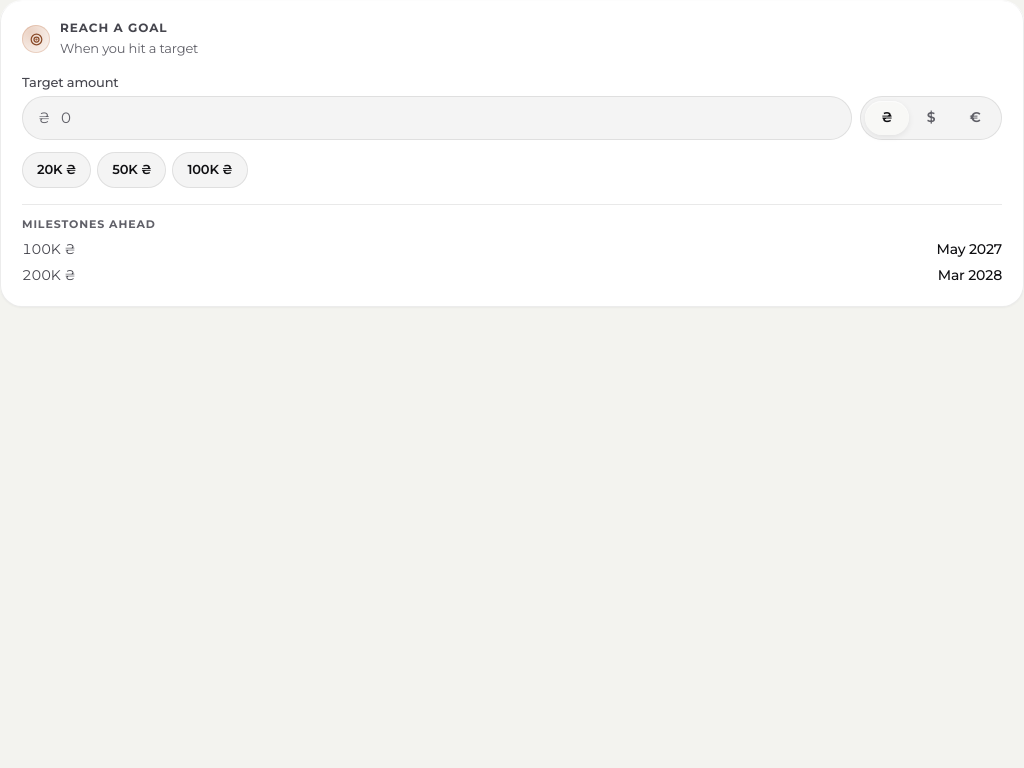
it: GoalCard › says when a target is out of reach
This screenshot has width=1024, height=768.
Type "10000000" into the field labelled "Target amount" at (437, 118), box [22,96,852,140]
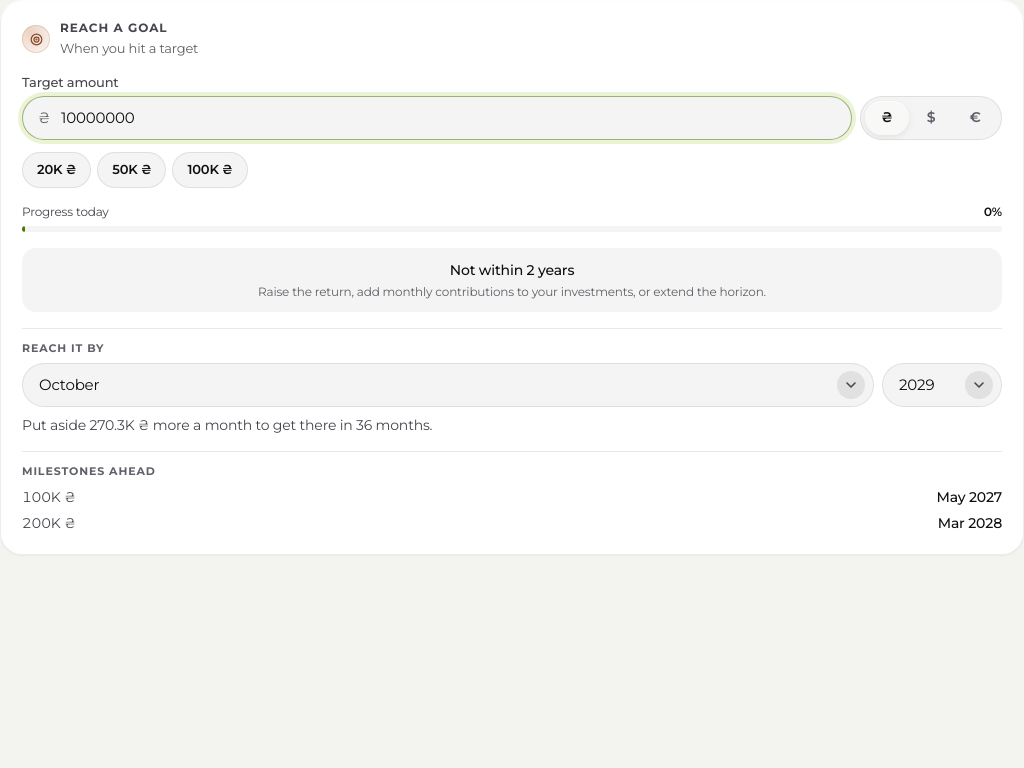
Now the text "Not within 2 years" is shown, box [450,261,574,279]
Now the text "Put aside 270.3K ₴ more a month to get there in 36 months." is shown, box [22,416,432,434]
